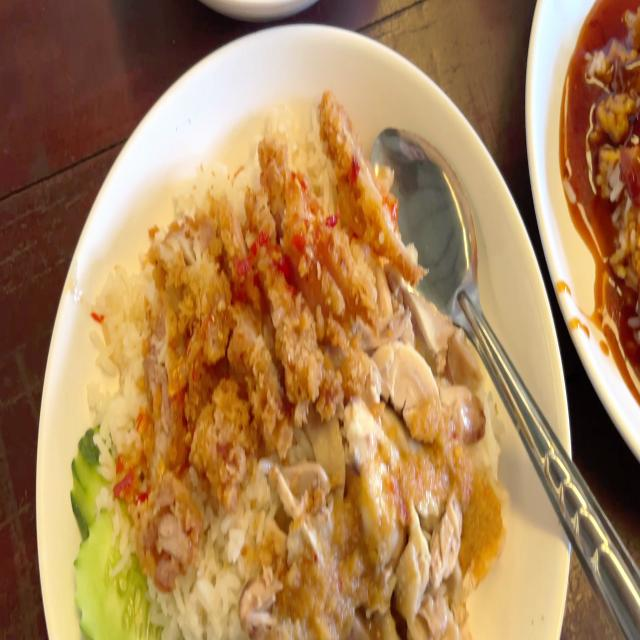boiled_chicken: (253, 301, 488, 640)
chicken_rice: (70, 98, 502, 640)
cucumber: (64, 420, 149, 640)
fried_chicken: (125, 107, 416, 559)
red_pork_and_crispy_pork: (586, 0, 640, 355)
